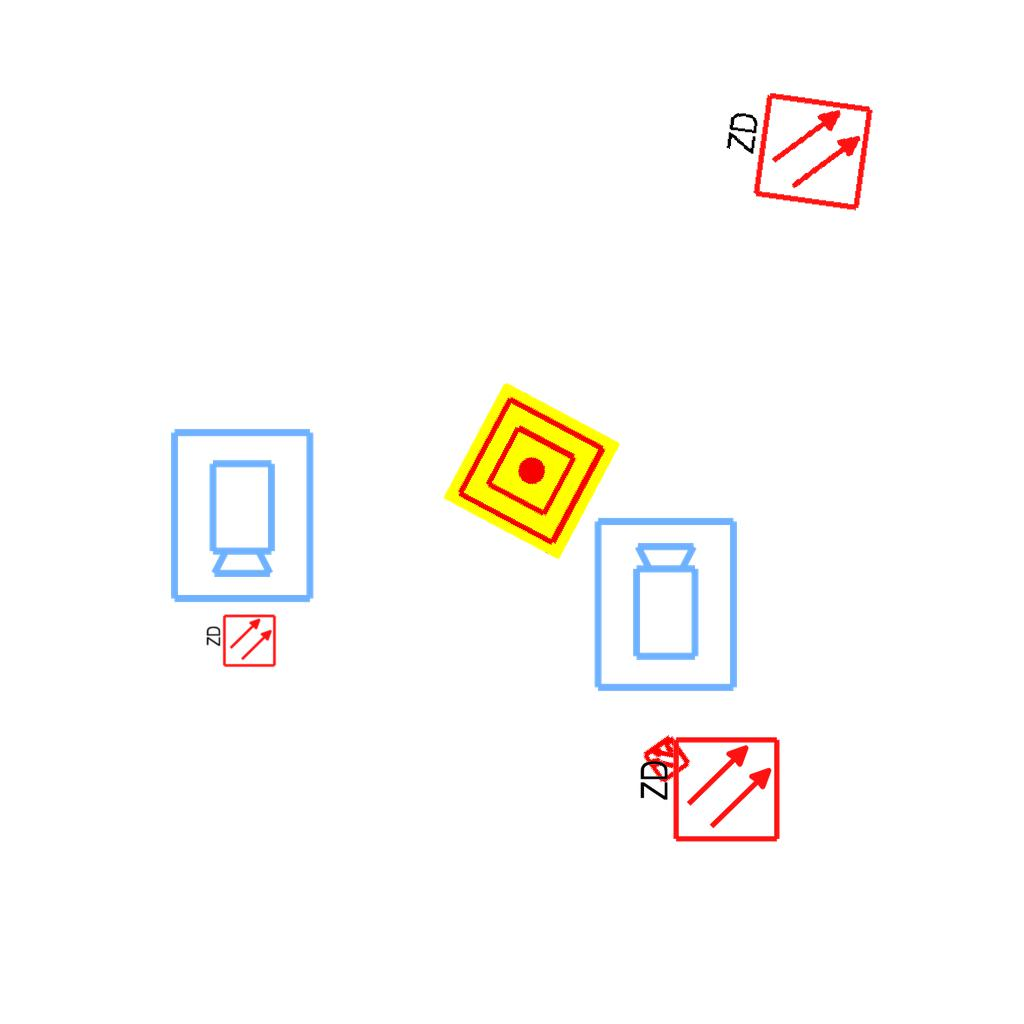KFO_Kamera_mit_Festobjektiv: (590, 514, 744, 696), (164, 424, 318, 606)
NAM-Nichtautomatischer_Melder: (442, 381, 622, 561)
OT_Multisensormelder_(Kombination_RMO_WMD): (627, 719, 705, 797)
ZD_Melder_in_Zwischendecke_mit_Revisionsoeffnung_mind_40_x_40_cm: (712, 83, 876, 218), (633, 734, 782, 848), (203, 613, 277, 670)
